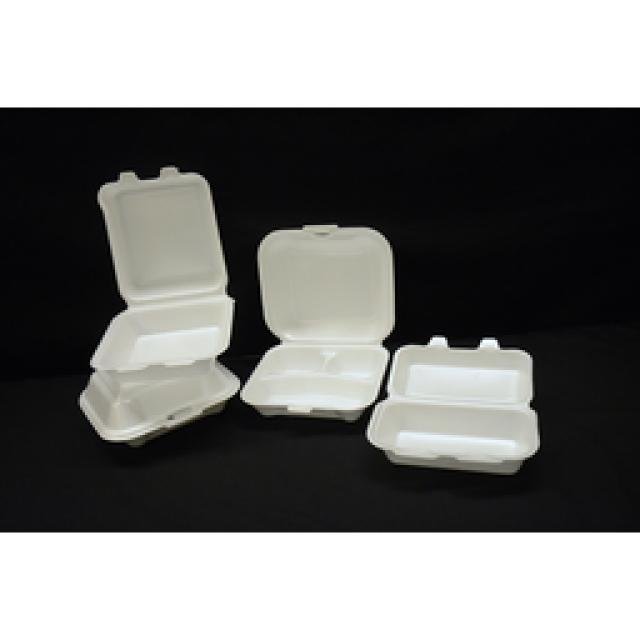inorganic: (238, 225, 398, 422), (92, 178, 227, 372), (367, 336, 540, 473)
